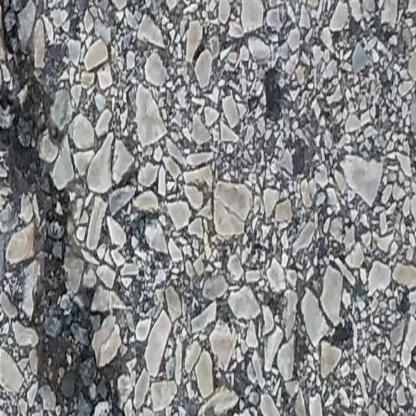Cracks: (0, 0, 138, 416)
